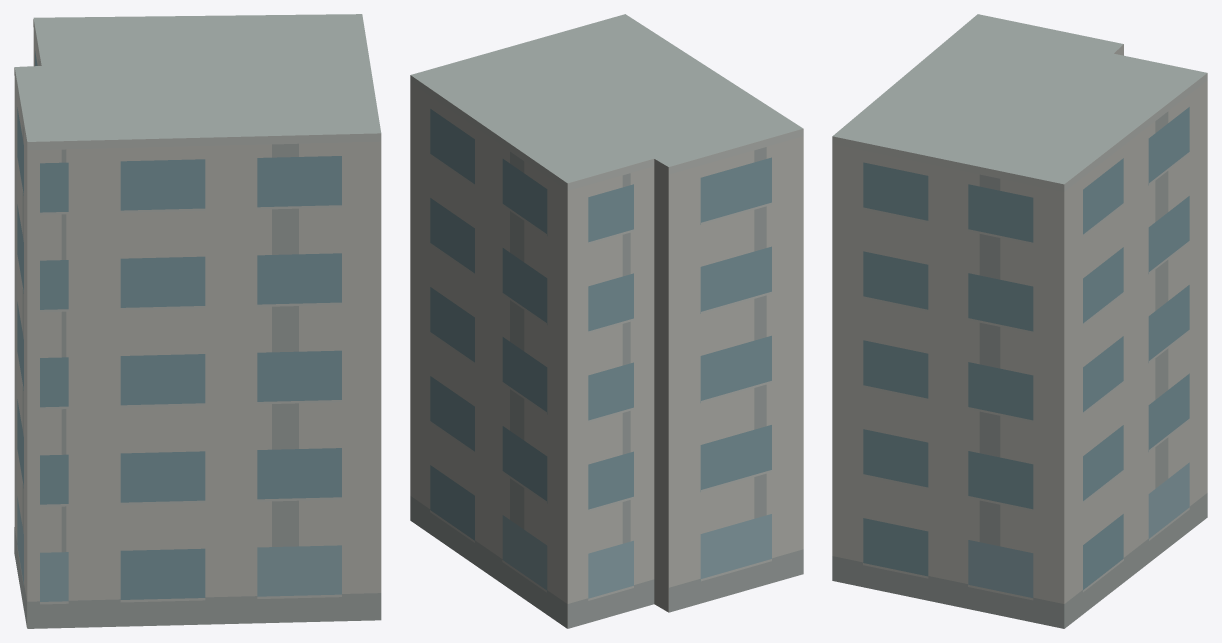
Rendered from survey-upis-32950371.glb.
3 views of the same model, side by side, from view 1: azimuth 30°, elevation 25°; view 2: azimuth 150°, elevation 25°; view 3: azimuth 270°, elevation 25° (orthographic). The views are drawn at different scales.
Visible parts, largest first — view 1: survey-upis-32950371.tmp; view 2: survey-upis-32950371.tmp; view 3: survey-upis-32950371.tmp.
Boxes of the visible parts, left/top/right/bottom form: survey-upis-32950371.tmp: left=14, top=14, right=381, bottom=628; survey-upis-32950371.tmp: left=410, top=14, right=803, bottom=628; survey-upis-32950371.tmp: left=832, top=14, right=1207, bottom=628.
Size of the model in its own units: 11.6 by 14.1 by 10.8.
